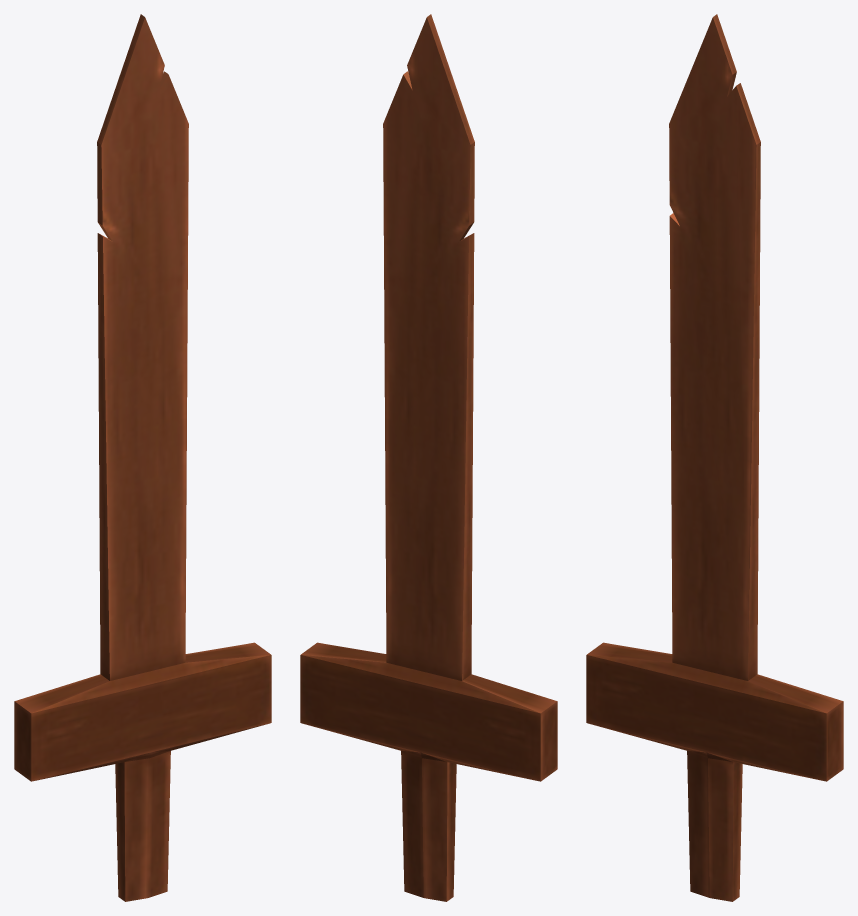
File: wooden_sword.fbx
The picture shows the model from 3 angles, left to right: view 1: azimuth 30°, elevation 25°; view 2: azimuth 150°, elevation 25°; view 3: azimuth 330°, elevation 25°; orthographic projection.
Visible parts, largest first — view 1: wooden_sword; view 2: wooden_sword; view 3: wooden_sword.
Boxes of the visible parts, <box> form: wooden_sword: <box>14,14,271,901</box>; wooden_sword: <box>300,14,557,901</box>; wooden_sword: <box>586,14,843,901</box>.
Size of the model in its own units: 1.94 by 6.79 by 0.2343.
1 material, 1 textured.
